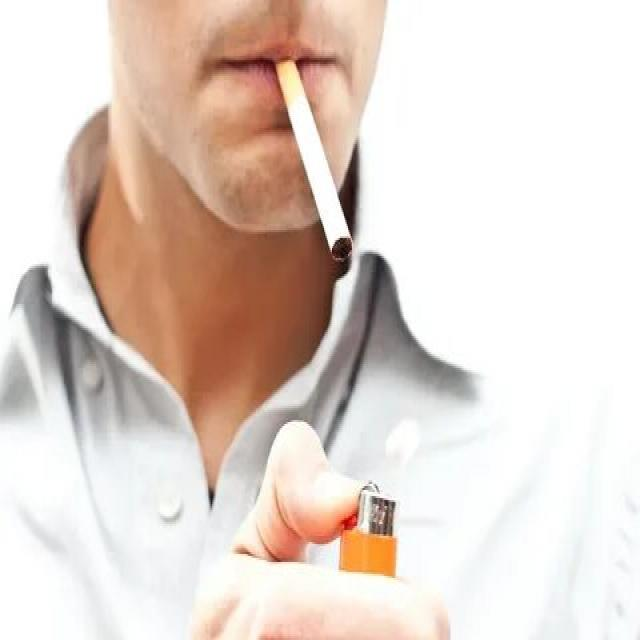cigarette: (274, 56, 358, 270)
